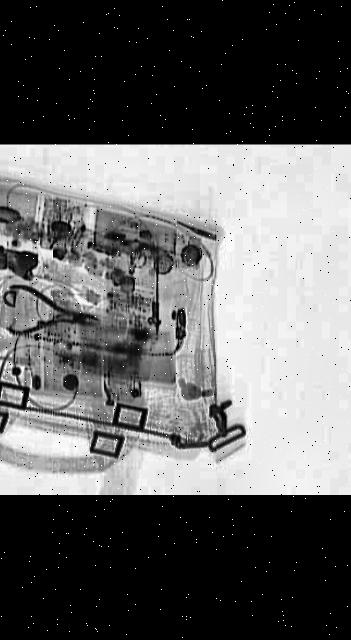Pliers: (0, 285, 110, 344)
